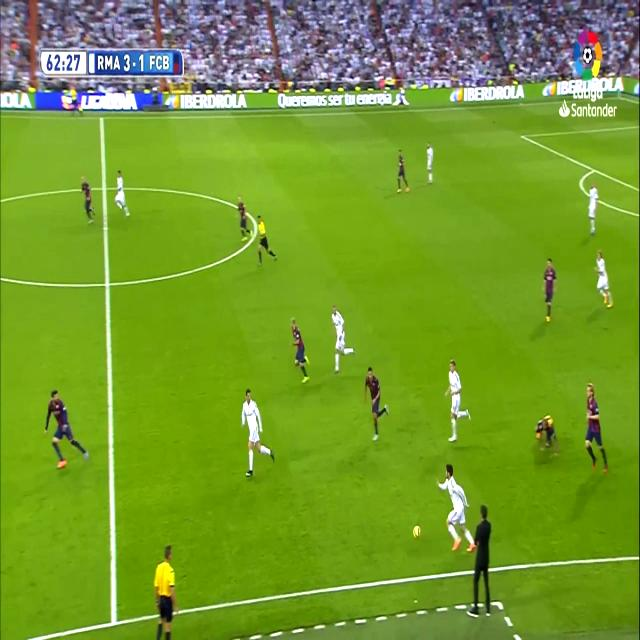halfcircle_bottom: (100, 264, 115, 302)
halfcircle_top: (98, 173, 110, 200)
midline_bottom_intersection: (106, 595, 122, 633)
midline_top_intersection: (97, 110, 107, 127)
